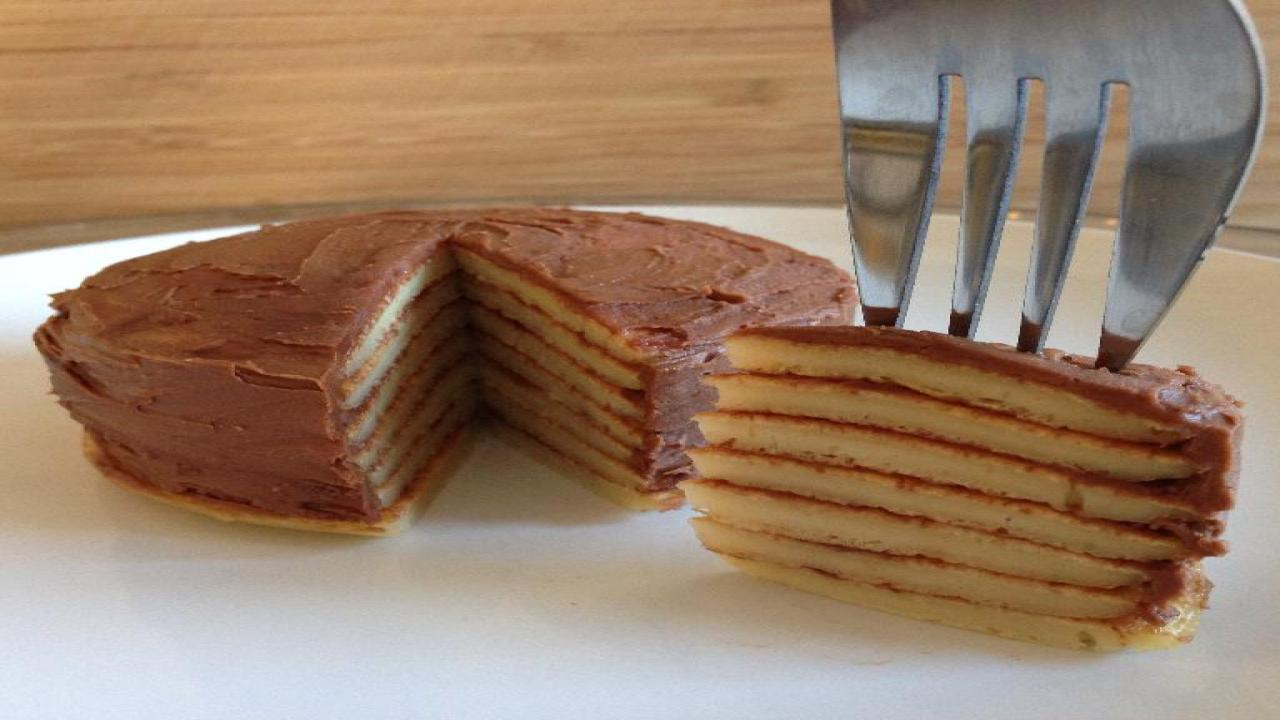fork: (829, 0, 1280, 379)
